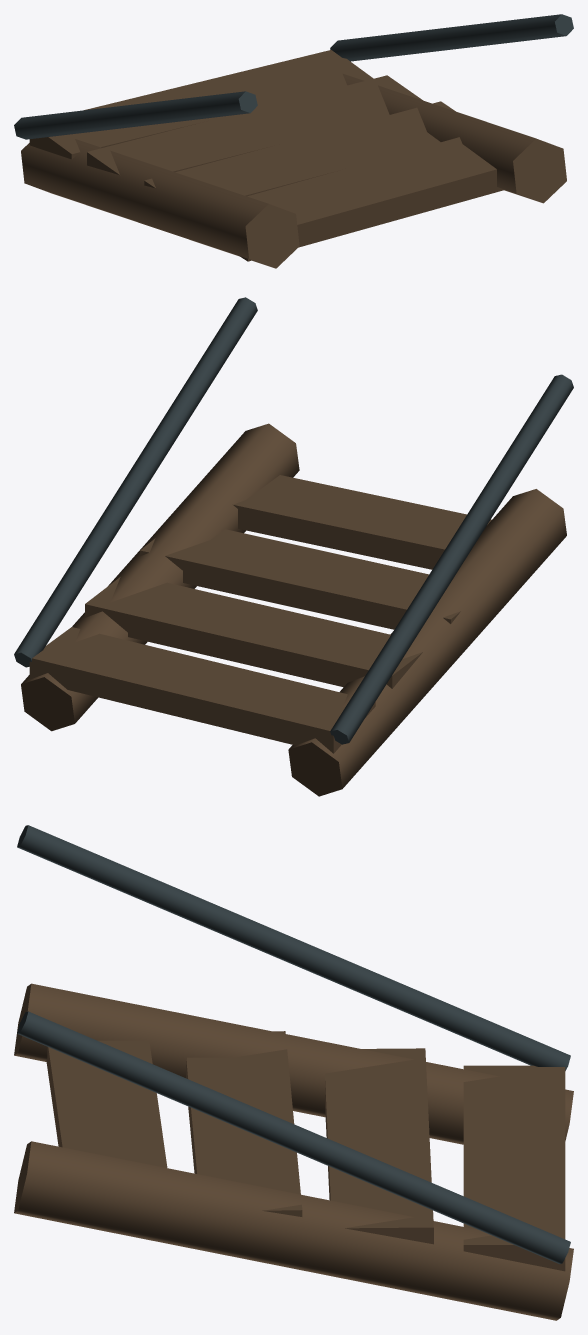
File: bridge-wing.glb
3 renders of one model, top to bottom at view 1: azimuth 30°, elevation 25°; view 2: azimuth 150°, elevation 25°; view 3: azimuth 270°, elevation 25°, orthographic. The views are drawn at different scales.
Parts seen in each view (by area): view 1: bridge-wing; view 2: bridge-wing; view 3: bridge-wing.
Part boxes in pixels (box(x1,y1,x2,y2)): bridge-wing: box(14, 14, 573, 268); bridge-wing: box(14, 297, 573, 796); bridge-wing: box(14, 825, 573, 1320).
Size of the model in its own units: 1.37 by 1.05 by 1.65.
